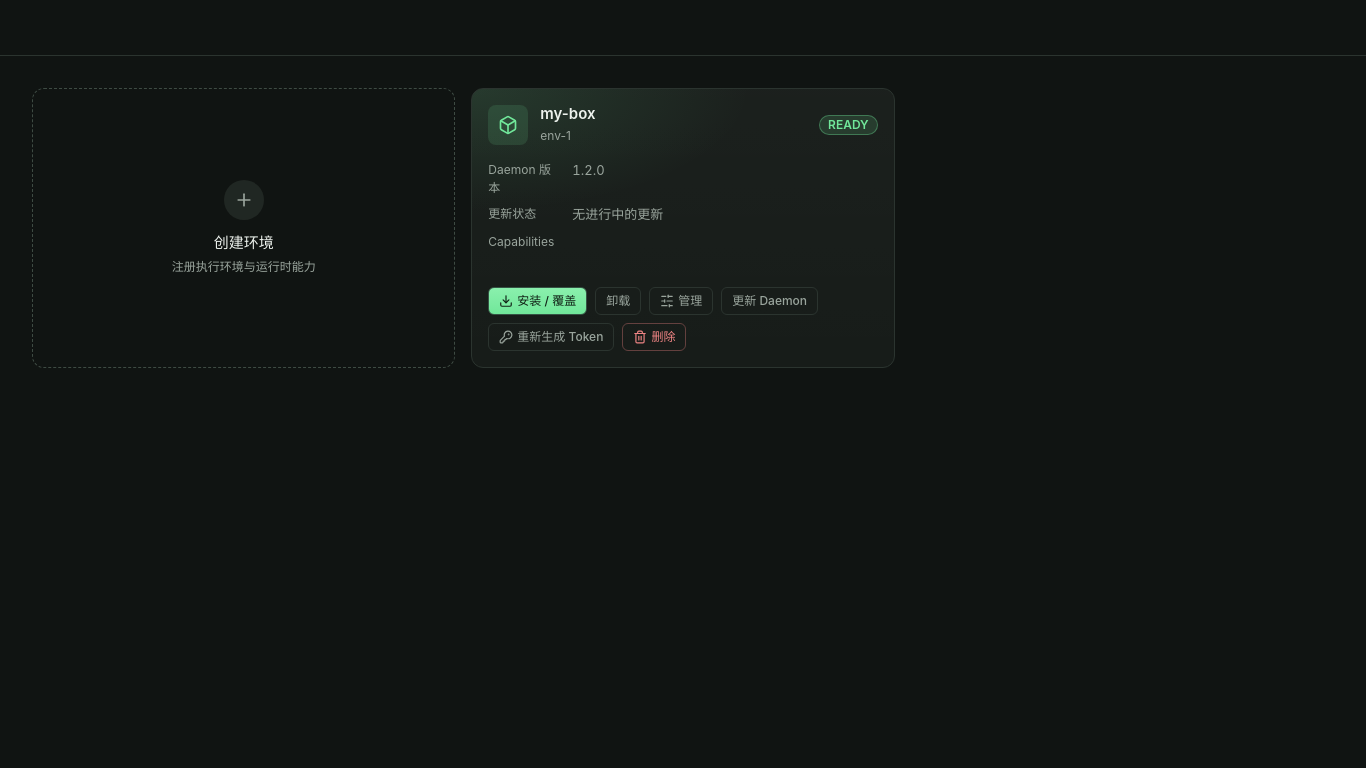
EnvironmentsPage › starts a managed Daemon update after confirmation and applies the returned runtime snapshot
Expected: the text "无进行中的更新" is shown, [572,206,663,222]
Click the button with aria-label "更新 Daemon my-box".
click(770, 301)  # box [721,287,818,315]
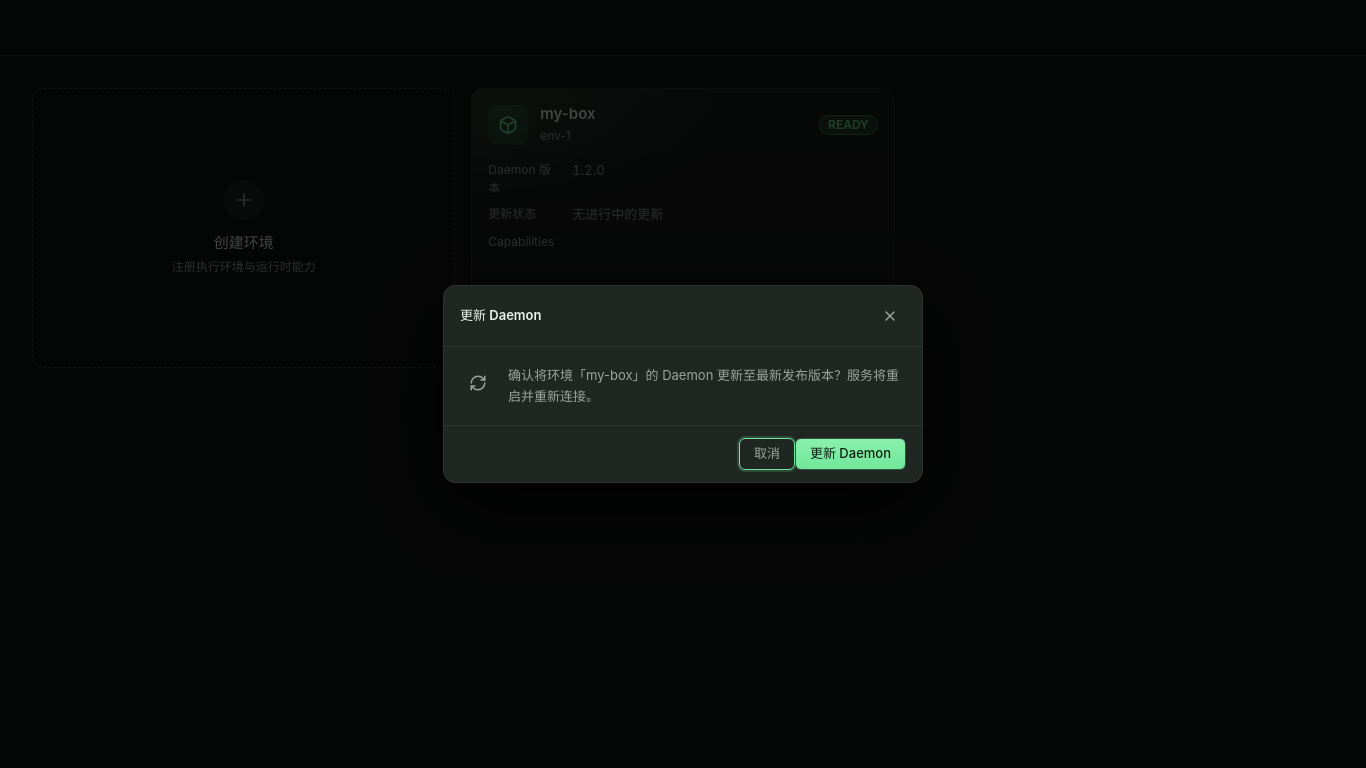
Expected: the text "确认将环境「my-box」的 Daemon 更新至最新发布版本？服务将重启并重新连接。" is shown, [508,365,906,407]
Click the button "更新 Daemon".
click(850, 454)  # box [795,438,906,470]
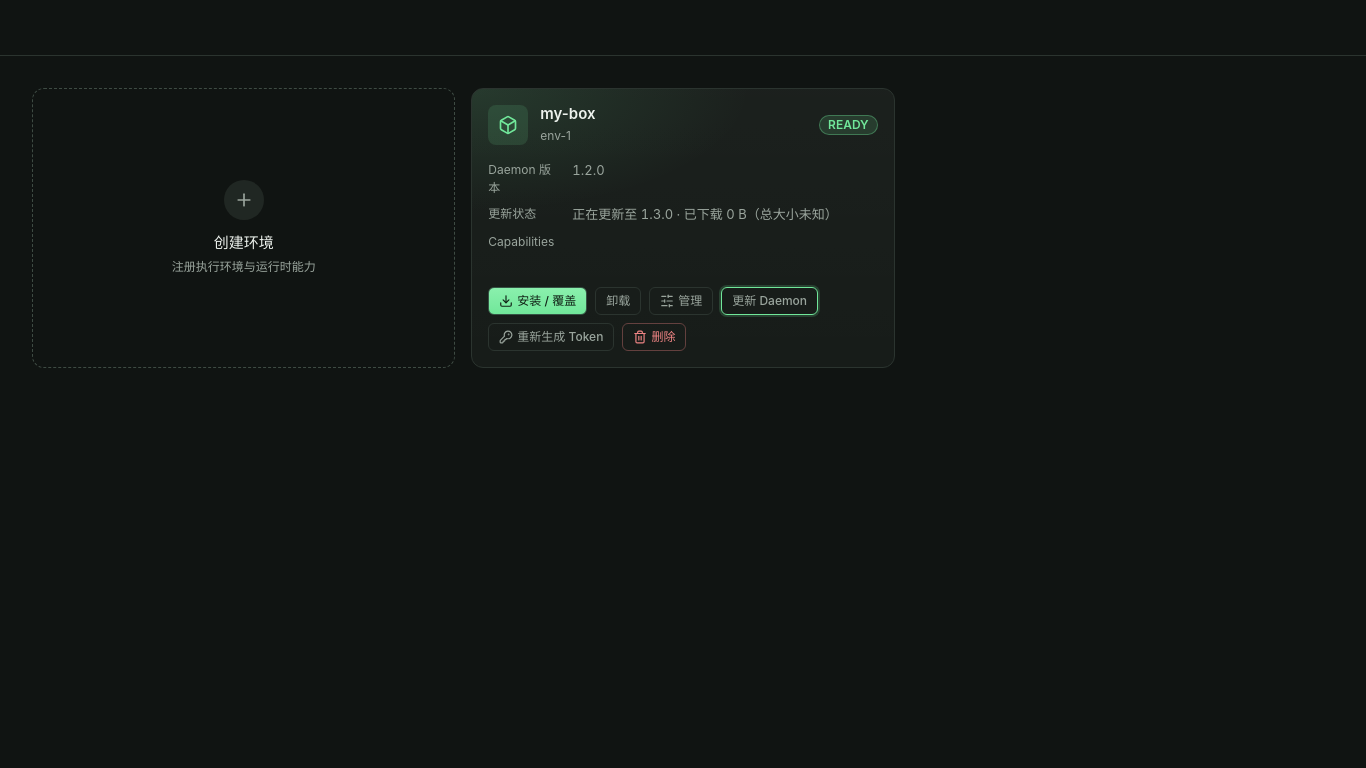
Expected: the text "正在更新至 1.3.0 · 已下载 0 B（总大小未知）" is shown, [572,205,878,224]
